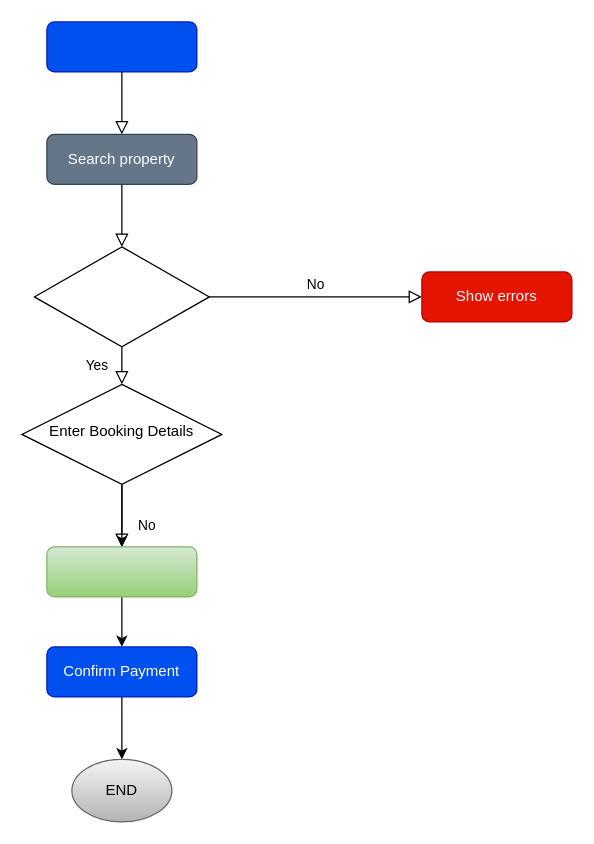
The diagram is 594 pixels wide and 844 high, and some of its shapes have lost their labels. Each missing label, with the box of its shape:
Data available ?: (33, 246, 209, 347)
Make payment: (46, 546, 197, 597)
Start: (46, 21, 197, 72)
